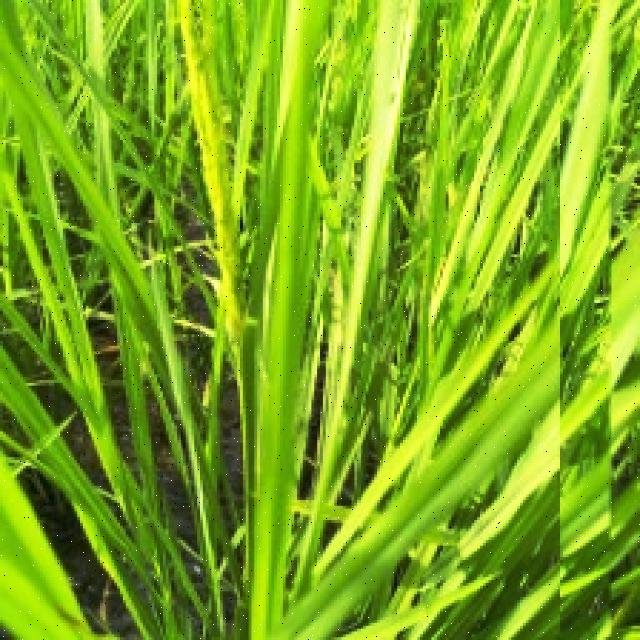health: (14, 30, 554, 638)
